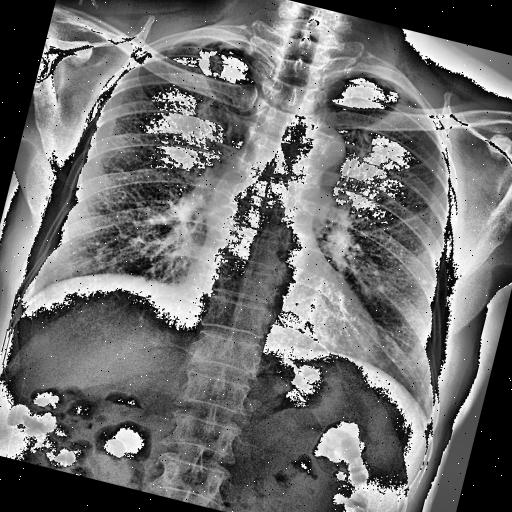0- Aortic enlargement: (270, 112, 356, 196), (277, 117, 352, 194), (298, 118, 350, 171)
11- Pleural thickening: (178, 26, 268, 64), (198, 30, 258, 60), (209, 32, 262, 58)
13- Pulmonary fibrosis: (198, 43, 234, 78), (207, 54, 226, 75)
2- Calcification: (204, 54, 227, 74)
3- Cardiomegaly: (173, 251, 383, 375)
8- Nodule-Mass: (207, 54, 226, 75), (420, 278, 428, 286)
